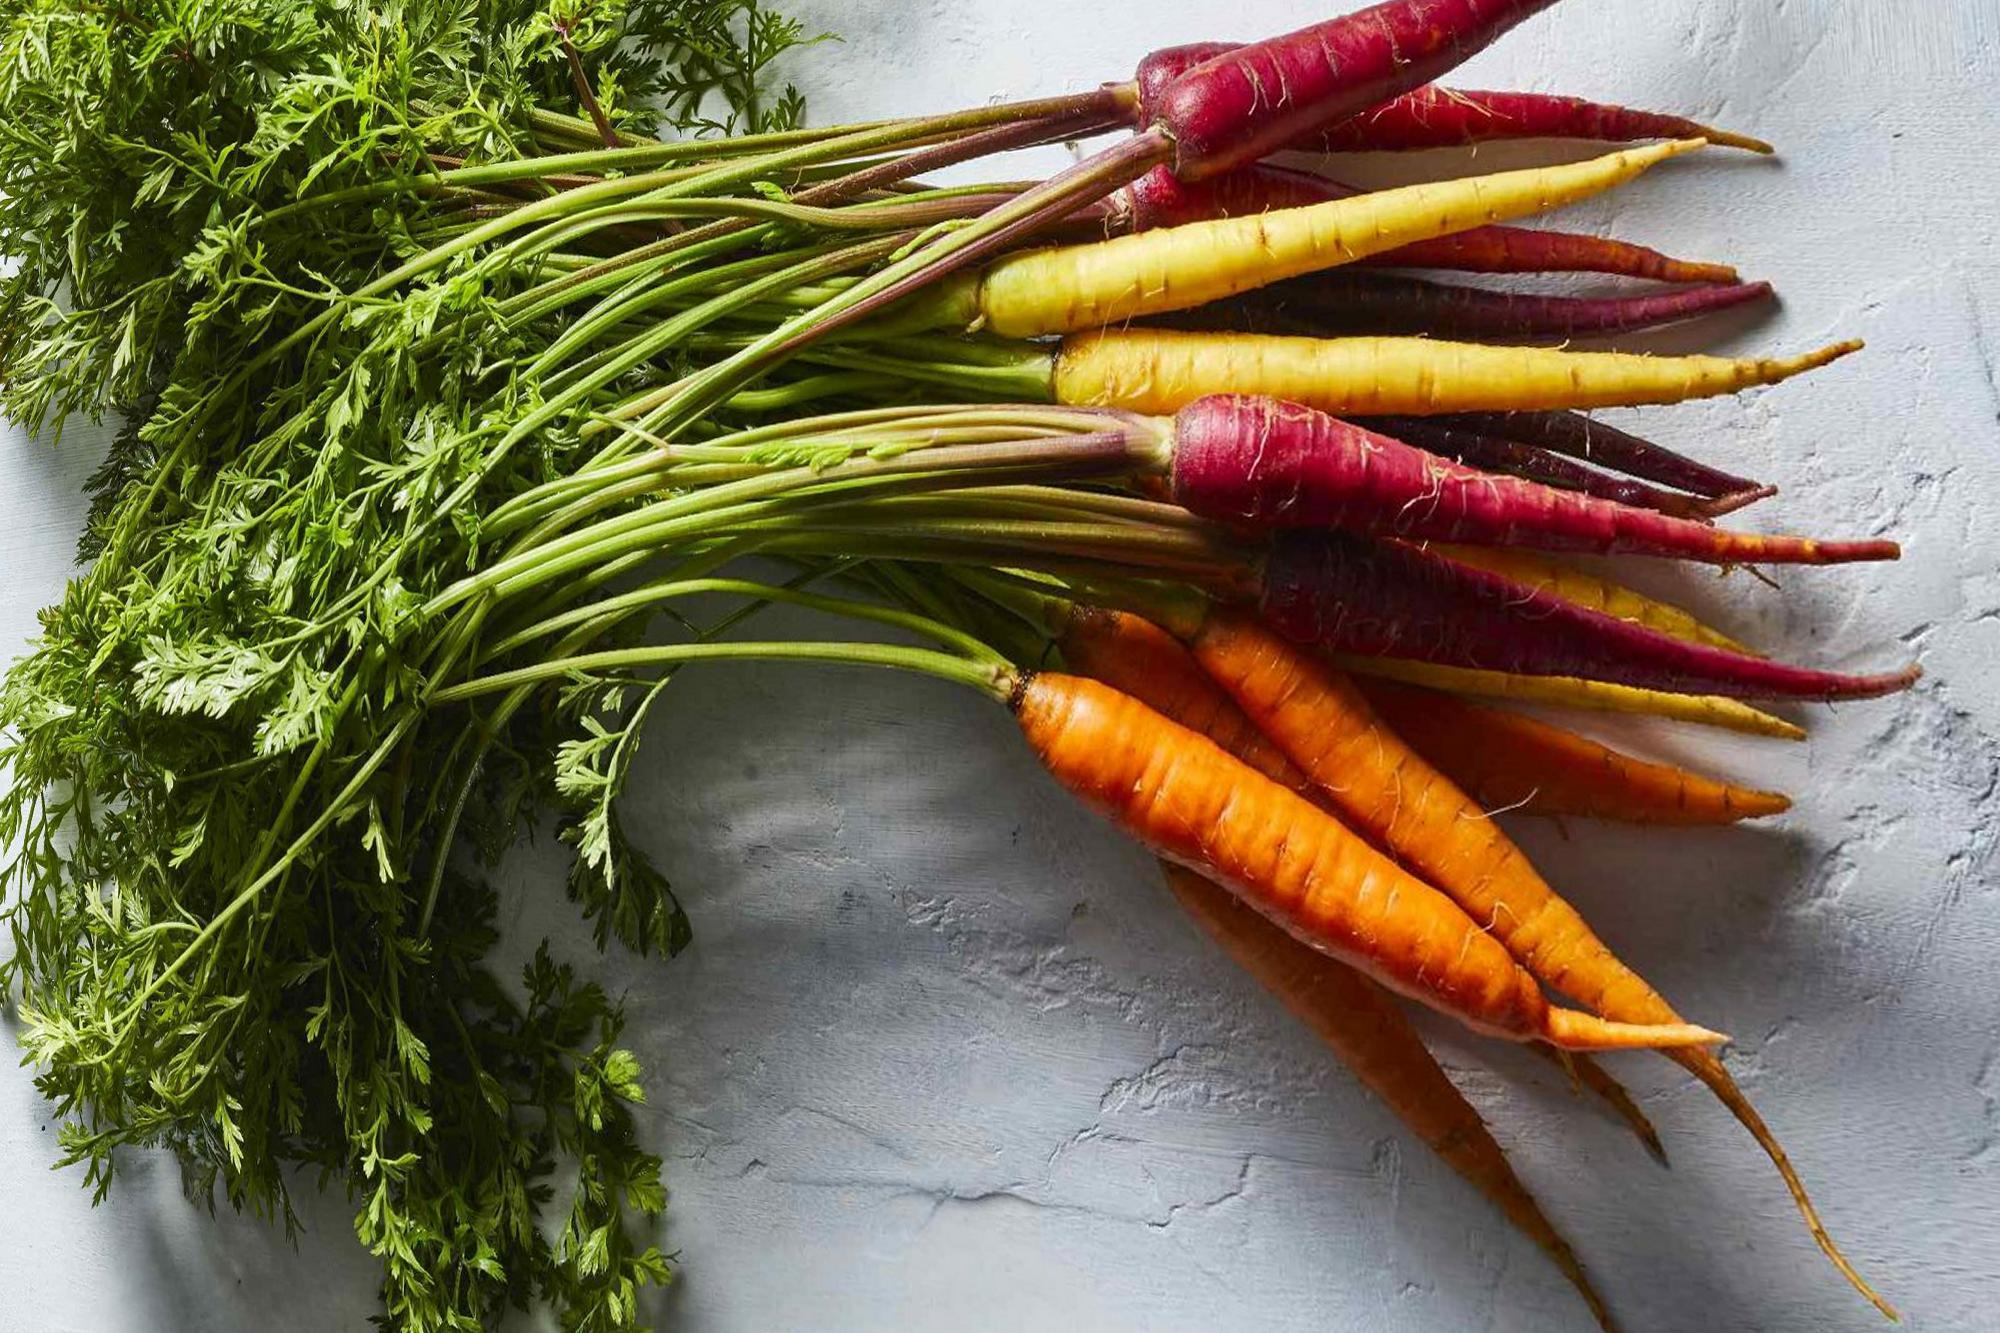carrot: (1005, 669, 1750, 1088), (1099, 242, 1756, 425)
